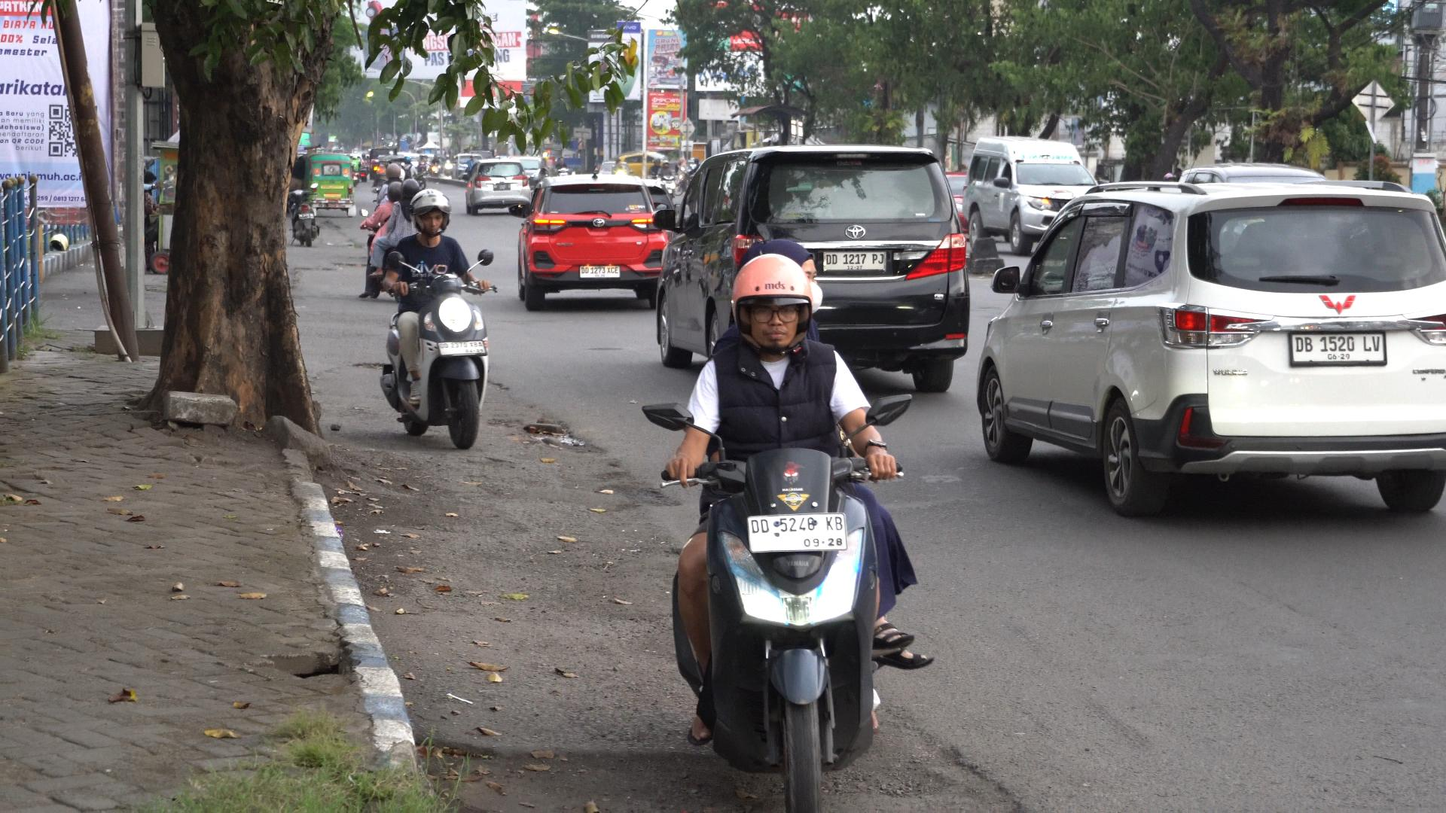number-plate: (746, 512, 848, 554), (437, 339, 488, 360)
